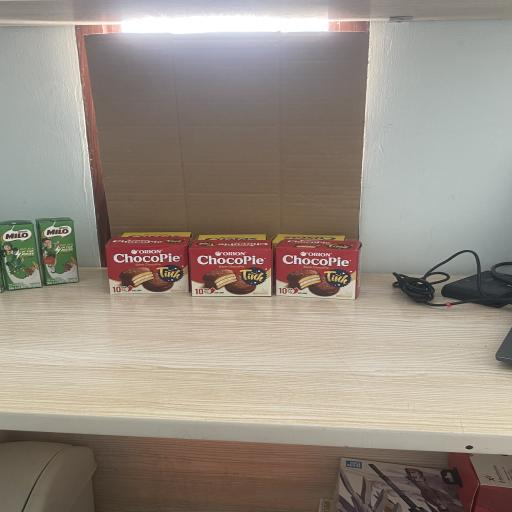chocopie: (275, 238, 361, 300), (104, 236, 190, 295), (187, 238, 274, 296)
custas: (272, 234, 346, 246), (198, 234, 266, 241), (120, 231, 191, 237)
milo: (0, 218, 41, 290), (38, 220, 77, 287)
